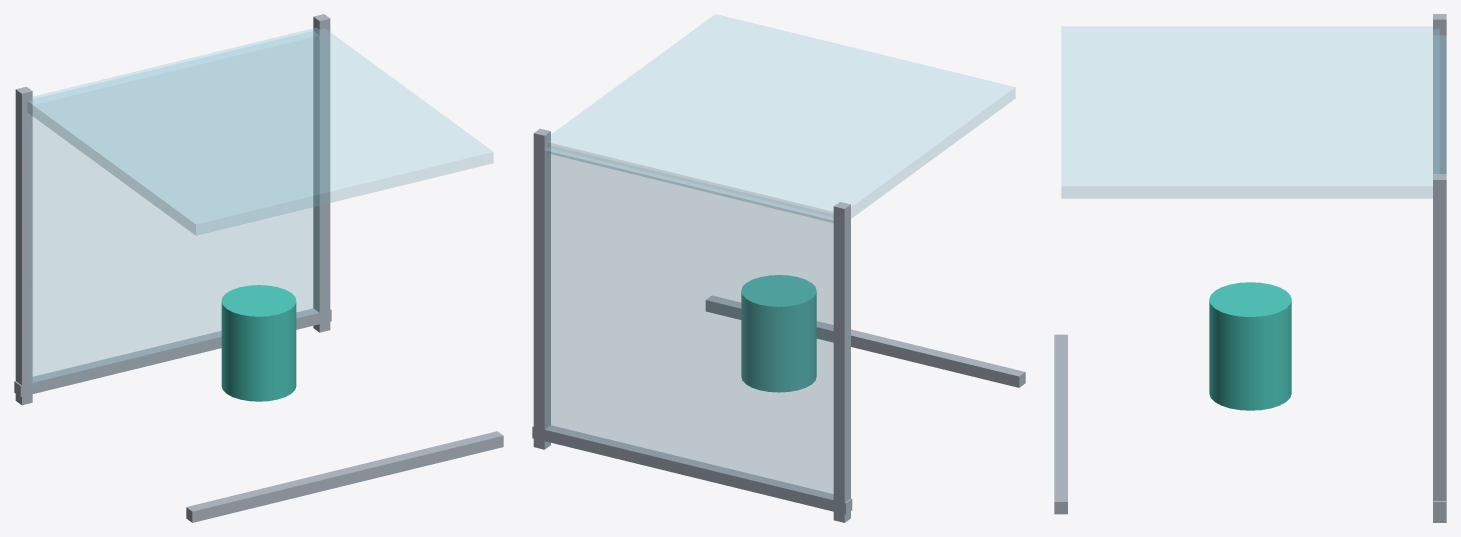
The model's file is greenhouse.glb.
3 views of the same model, side by side, from view 1: azimuth 30°, elevation 25°; view 2: azimuth 150°, elevation 25°; view 3: azimuth 270°, elevation 25° (orthographic). The views are drawn at different scales.
Size of the model in its own units: 1.15 by 1.1 by 1.14.
